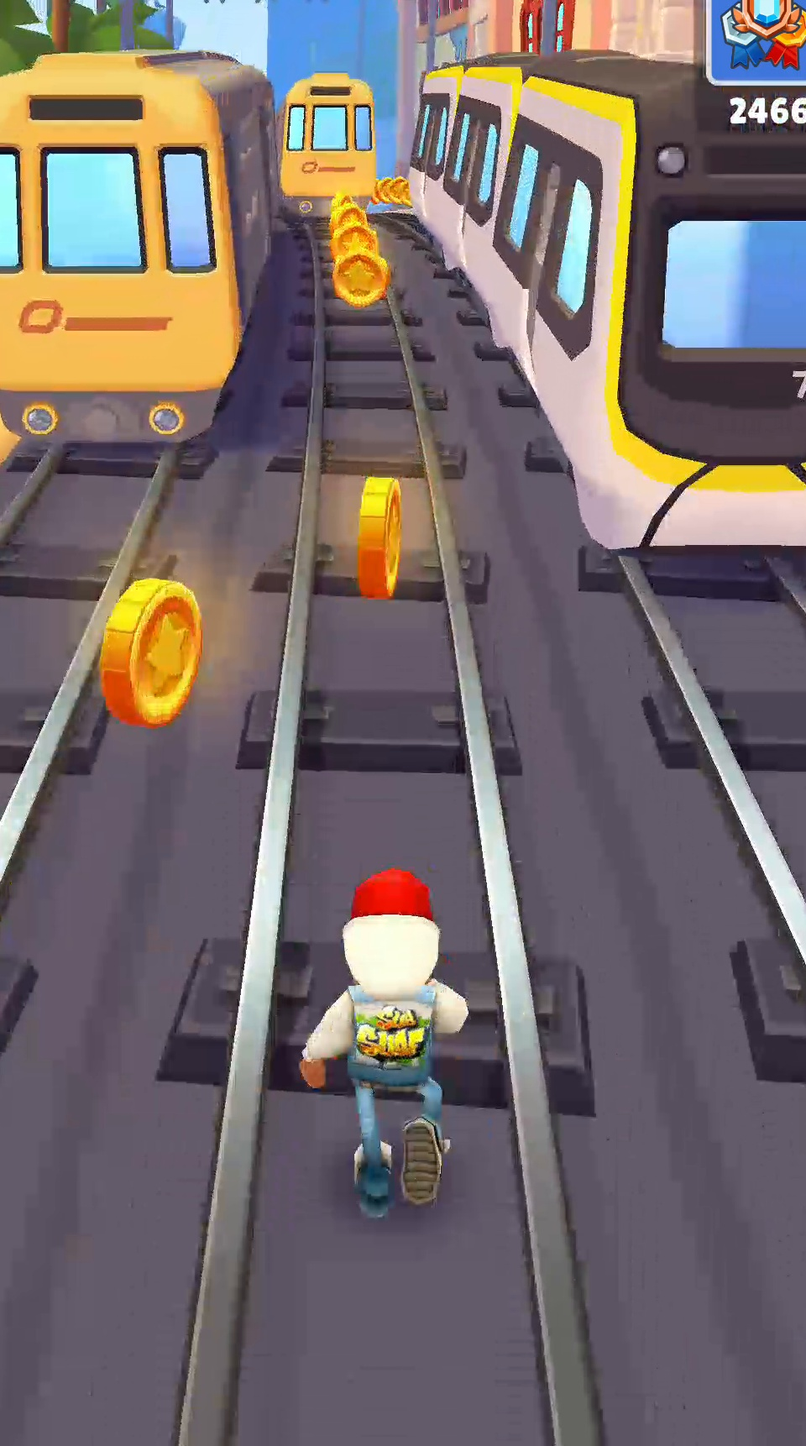train: (409, 50, 805, 550), (0, 52, 280, 444), (278, 73, 377, 215)
